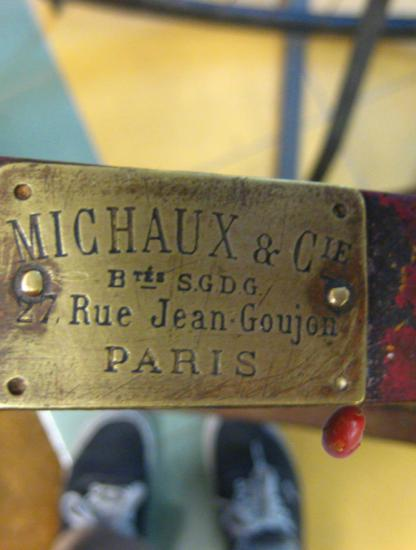Potato: (315, 403, 372, 460)
